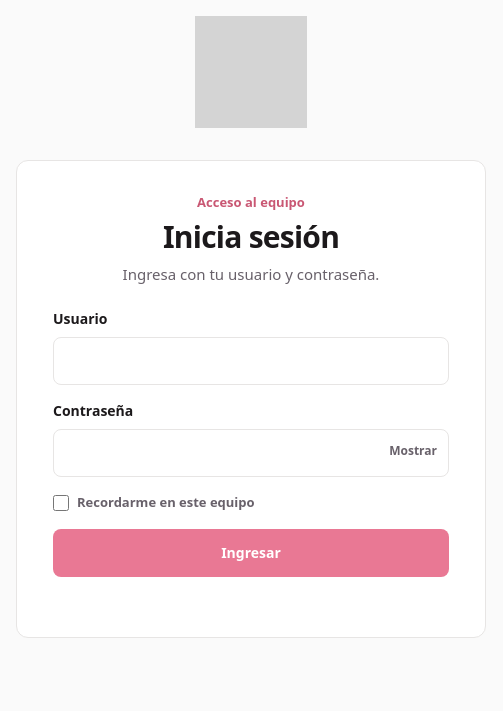
it: LoginPage › explica los campos obligatorios sin enviar una solicitud vacía
Click the button "Ingresar" at (251, 552), box [53,528,449,576]
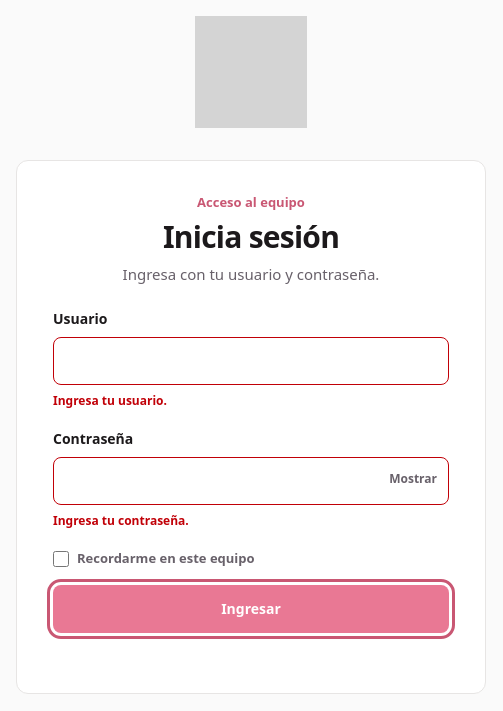
Now the text "Ingresa tu usuario." is shown, box [53,392,167,409]
Now the text "Ingresa tu contraseña." is shown, box [53,512,189,529]
